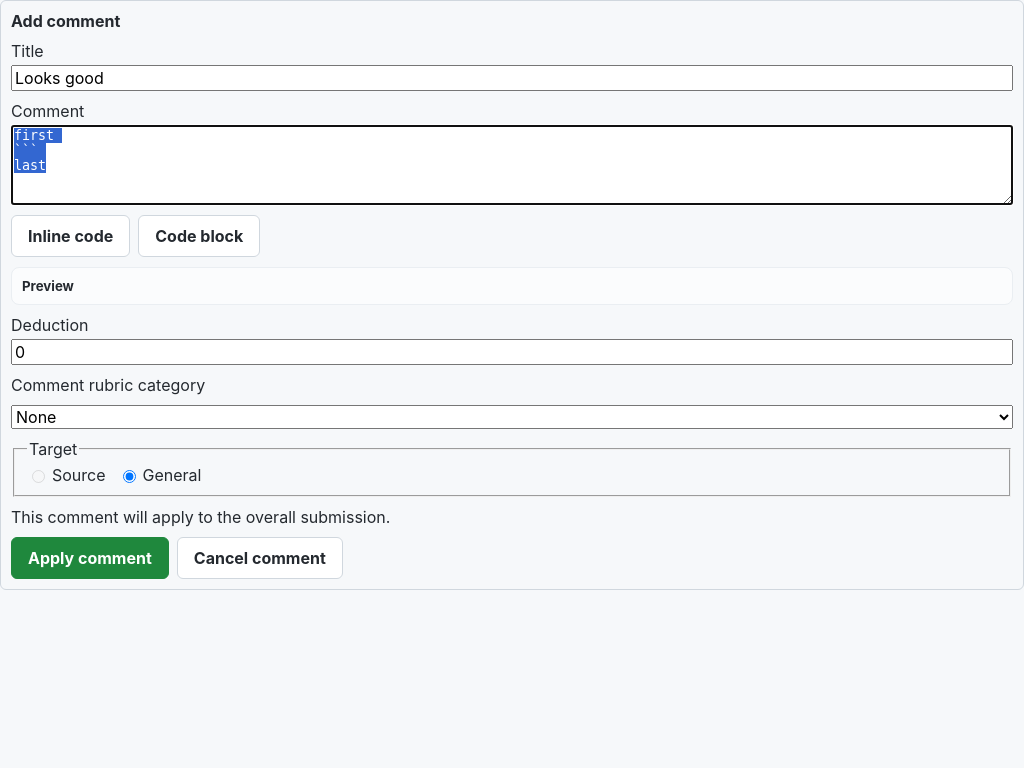
Test: GradingCommentEditorForm › keeps focus and warns instead of wrapping an ambiguous closing fence
This screenshot has width=1024, height=768.
Click the button "Code block" at (199, 236), box [138,215,260,257]
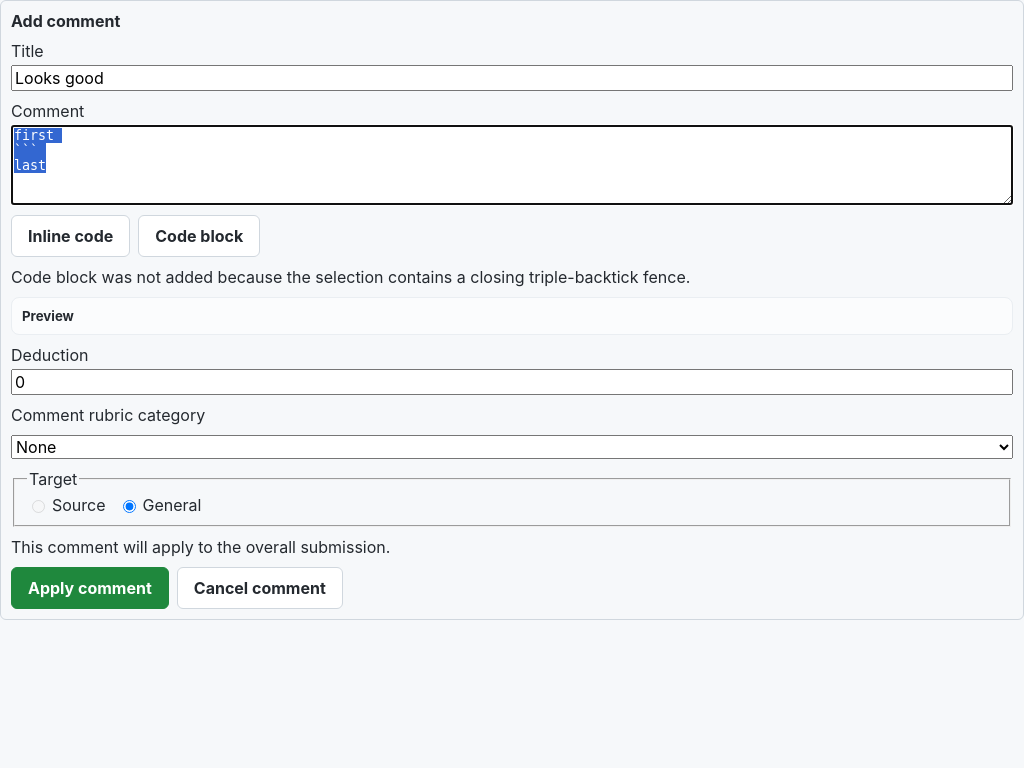
Expected: the text "Code block was not added because the selection contains a closing triple-backtick fence." is shown, [11,267,690,287]
